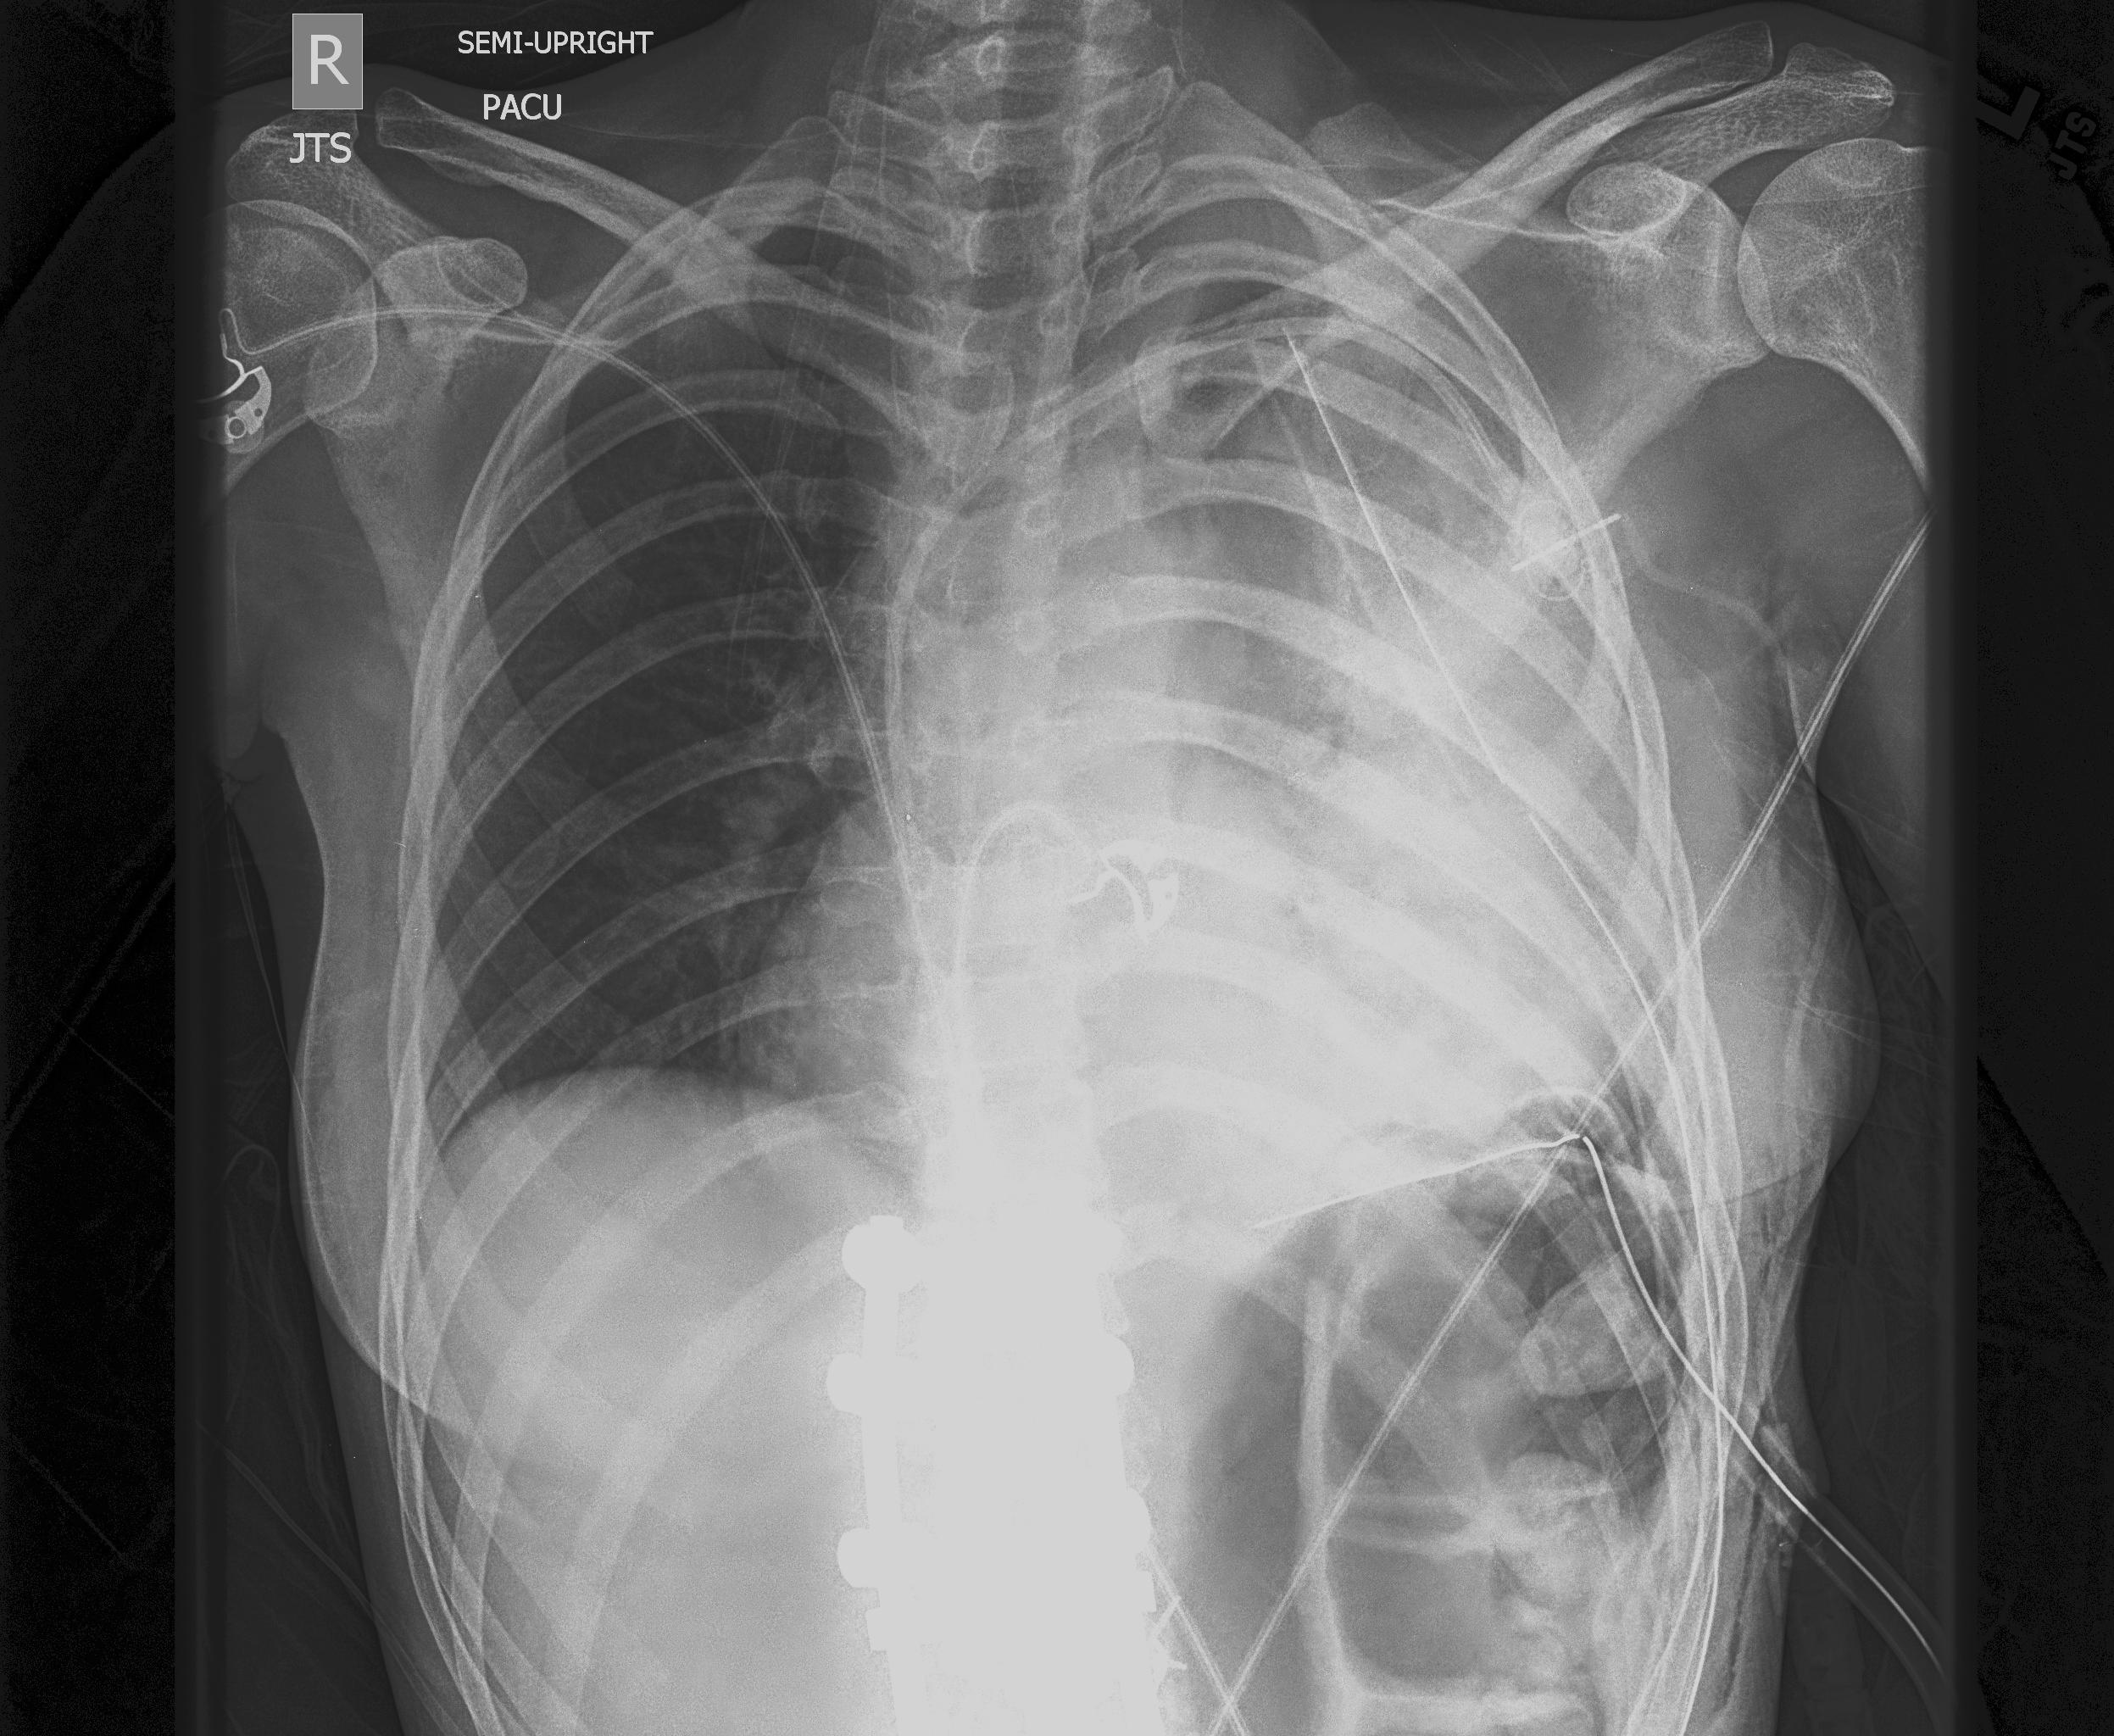Pleural Effusion: (1150, 456, 1700, 1176)
